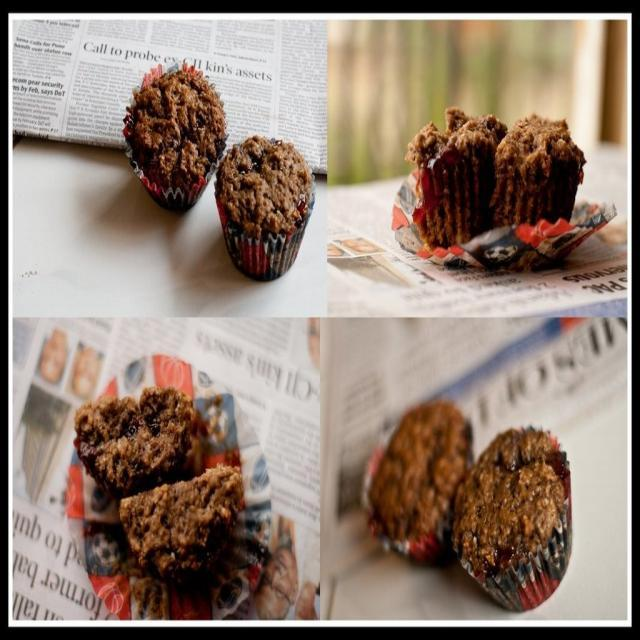Muffin: (447, 420, 575, 610), (362, 397, 477, 572), (123, 56, 231, 222), (399, 105, 508, 253), (214, 127, 318, 281), (119, 465, 241, 586), (76, 391, 200, 499), (488, 102, 586, 236)
